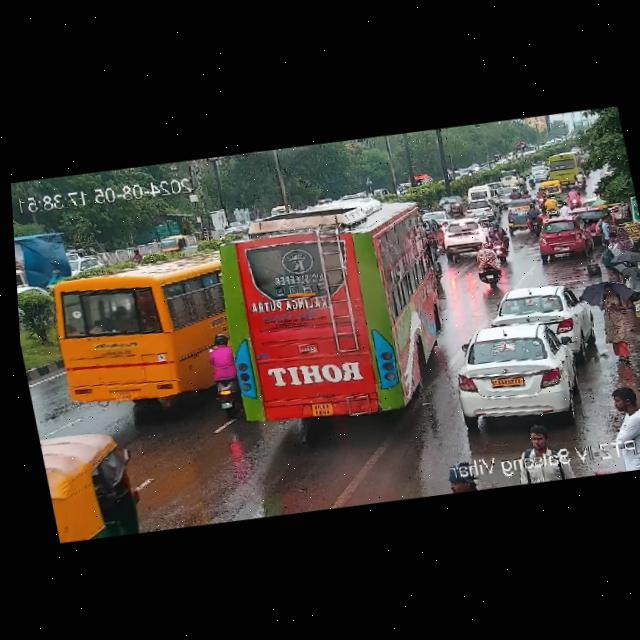bus: (207, 196, 447, 436), (35, 248, 244, 420), (542, 151, 588, 186)
car: (444, 315, 605, 430), (44, 432, 139, 543), (488, 280, 593, 348), (532, 216, 596, 260), (435, 217, 489, 257), (498, 200, 541, 233), (152, 231, 194, 257), (463, 196, 503, 220), (462, 183, 502, 202), (495, 168, 525, 190), (489, 187, 524, 205), (435, 193, 463, 213), (538, 179, 565, 199), (419, 209, 448, 225)
motorcycle: (471, 243, 506, 287), (484, 222, 513, 260)
person: (600, 385, 640, 448), (511, 425, 573, 461), (599, 235, 632, 279), (613, 268, 640, 313), (595, 214, 616, 241)
truck: (13, 227, 78, 294)
